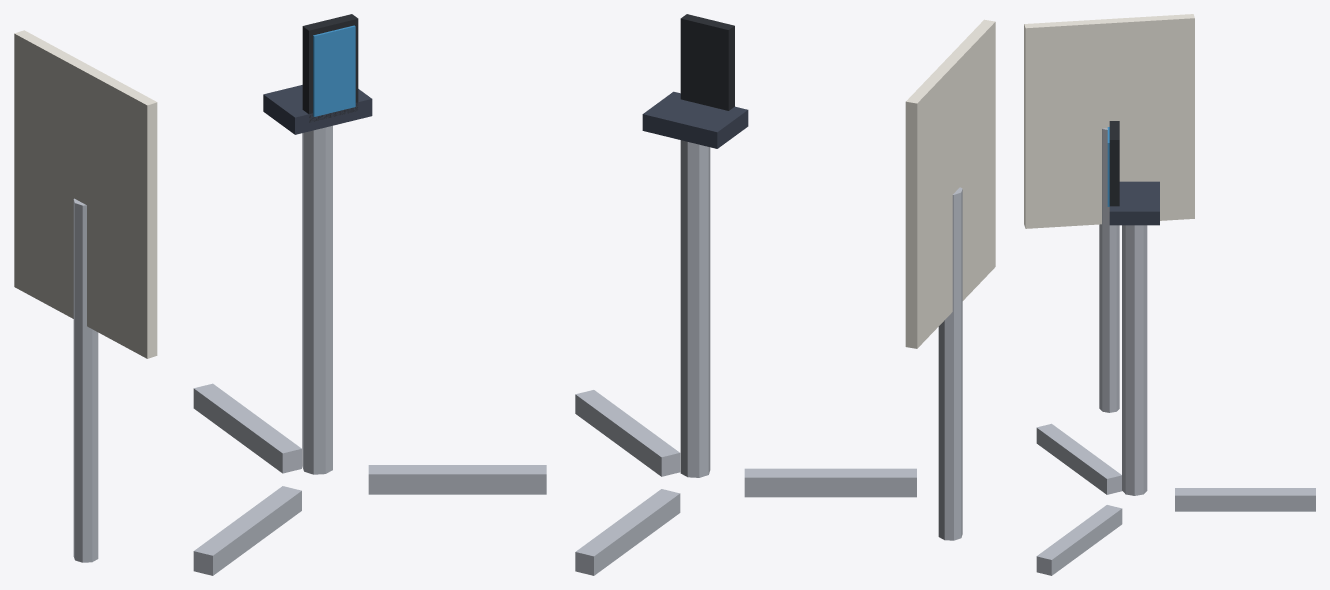
File: station_buffer_2.glb
3 renders of one model, left to right at view 1: azimuth 30°, elevation 25°; view 2: azimuth 150°, elevation 25°; view 3: azimuth 270°, elevation 25°, orthographic. The views are drawn at different scales.
Visible parts, largest first — view 1: reflektor_flaeche, stativ_saeule, reflektor_stab, stativ_fuss_2, stativ_fuss_0, stativ_fuss_1, handy_schirm, stativ_kopf, handy_koerper; view 2: reflektor_flaeche, stativ_saeule, reflektor_stab, stativ_fuss_1, handy_koerper, stativ_kopf, stativ_fuss_0, stativ_fuss_2; view 3: reflektor_flaeche, stativ_saeule, reflektor_stab, stativ_fuss_0, stativ_fuss_2, stativ_fuss_1, stativ_kopf, handy_koerper.
Boxes of the visible parts, bbox=[...] form: reflektor_flaeche: bbox=[14, 30, 157, 358]; stativ_saeule: bbox=[302, 125, 332, 474]; reflektor_stab: bbox=[73, 198, 98, 562]; stativ_fuss_2: bbox=[368, 465, 546, 494]; stativ_fuss_0: bbox=[193, 383, 301, 473]; stativ_fuss_1: bbox=[193, 486, 301, 575]; handy_schirm: bbox=[313, 25, 355, 116]; stativ_kopf: bbox=[263, 85, 372, 134]; handy_koerper: bbox=[302, 14, 358, 122]; reflektor_flaeche: bbox=[905, 19, 995, 348]; stativ_saeule: bbox=[680, 140, 710, 477]; reflektor_stab: bbox=[938, 187, 962, 540]; stativ_fuss_1: bbox=[744, 468, 916, 497]; handy_koerper: bbox=[680, 14, 734, 110]; stativ_kopf: bbox=[642, 91, 748, 148]; stativ_fuss_0: bbox=[575, 489, 680, 575]; stativ_fuss_2: bbox=[575, 390, 680, 476]; reflektor_flaeche: bbox=[1024, 14, 1194, 228]; stativ_saeule: bbox=[1122, 225, 1147, 495]; reflektor_stab: bbox=[1099, 128, 1119, 412]; stativ_fuss_0: bbox=[1175, 488, 1315, 511]; stativ_fuss_2: bbox=[1036, 505, 1122, 575]; stativ_fuss_1: bbox=[1036, 423, 1121, 494]; stativ_kopf: bbox=[1109, 181, 1159, 225]; handy_koerper: bbox=[1109, 121, 1119, 206].
Bounding box in the file's own units: 0.8041 × 0.8575 × 0.5797.
